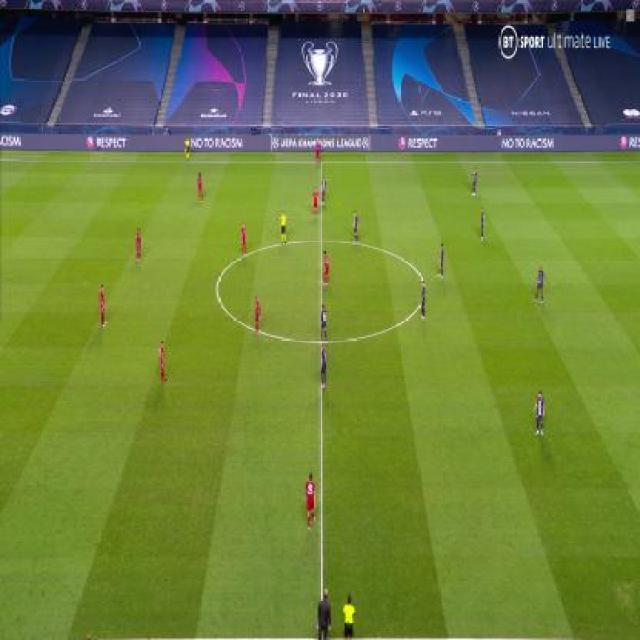player: (318, 302, 329, 393), (316, 589, 332, 640), (305, 472, 318, 534), (532, 390, 546, 438), (343, 594, 357, 640), (533, 265, 547, 304), (158, 338, 169, 386), (97, 283, 108, 329), (320, 303, 329, 349), (279, 209, 288, 249), (253, 294, 262, 334), (240, 220, 249, 259), (419, 278, 427, 321), (437, 242, 446, 279), (134, 226, 143, 263), (322, 250, 330, 287), (352, 209, 360, 245), (478, 205, 486, 241), (311, 186, 319, 220), (196, 171, 204, 204), (471, 166, 479, 197), (314, 139, 322, 168), (183, 136, 191, 162), (321, 174, 327, 208)
